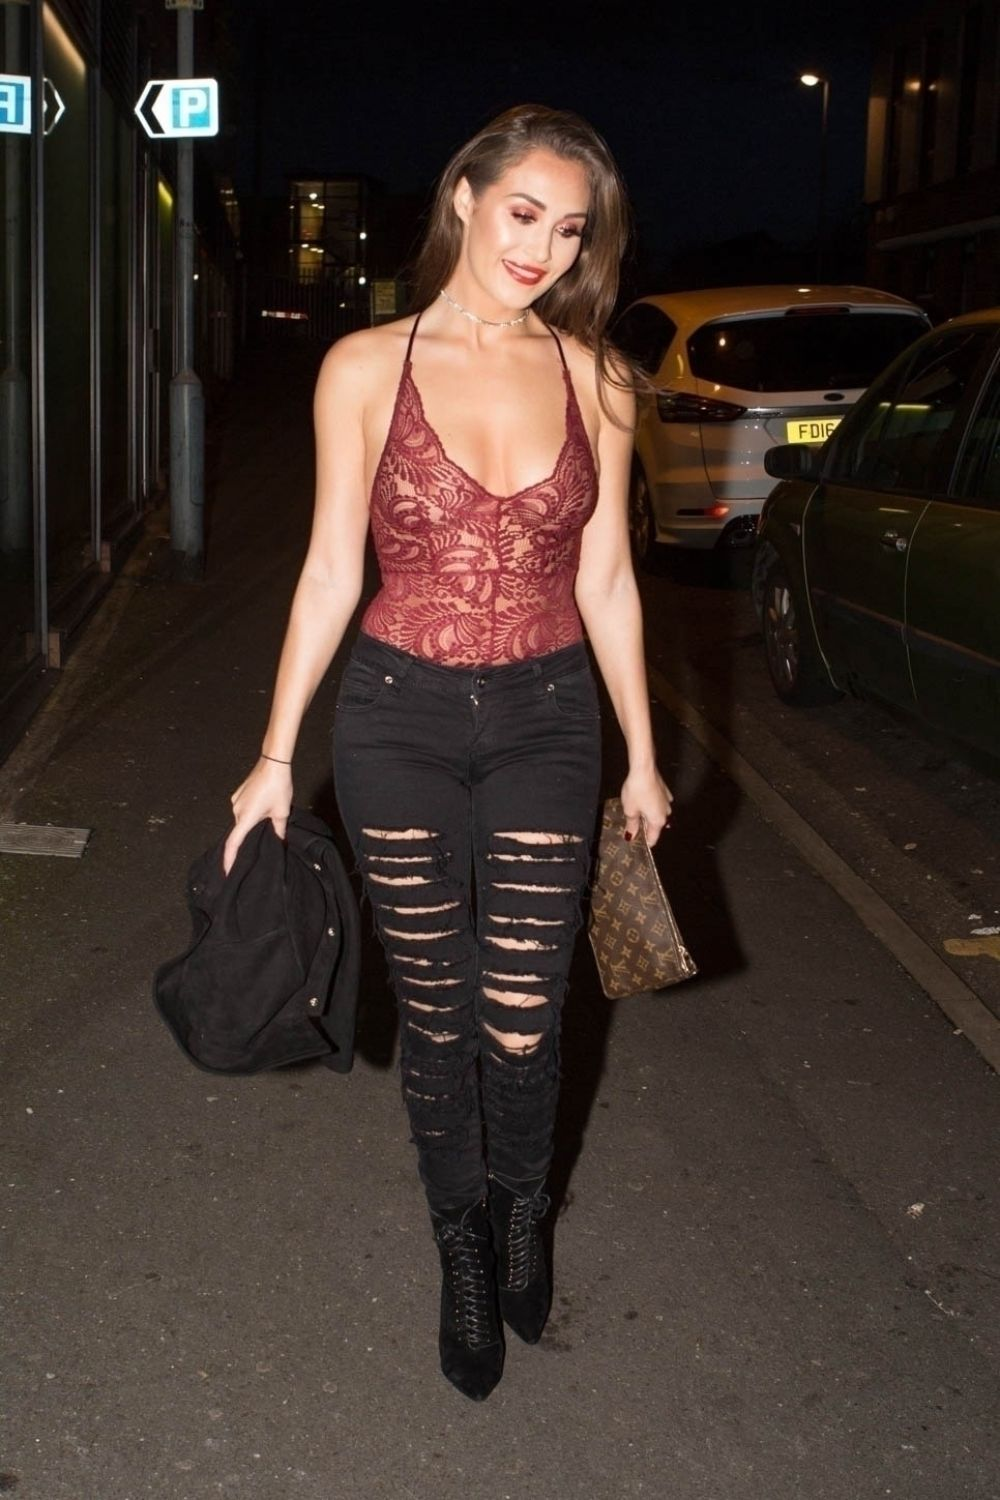Person: (160, 99, 723, 1401)
